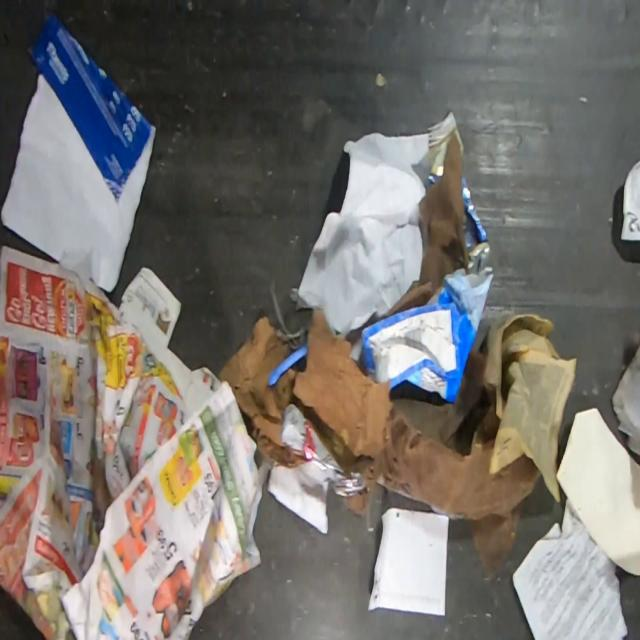cardboard: (360, 262, 496, 404)
metal: (425, 108, 491, 274)
